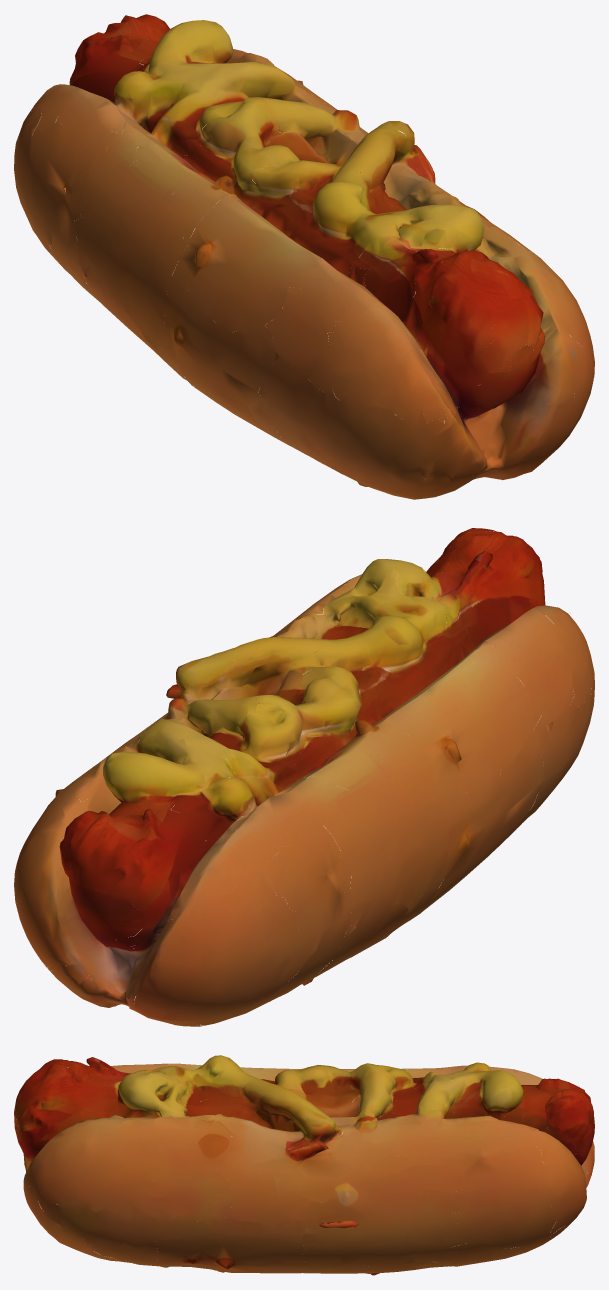
The model's file is s1_galactic_hot_dog_crate_01.glb.
3 renders of one model, top to bottom at view 1: azimuth 30°, elevation 25°; view 2: azimuth 150°, elevation 25°; view 3: azimuth 270°, elevation 25°, orthographic. The views are drawn at different scales.
Parts seen in each view (by area): view 1: tripo_node_a82e1693-5df7-4edb-9702-fad20c43ed5c; view 2: tripo_node_a82e1693-5df7-4edb-9702-fad20c43ed5c; view 3: tripo_node_a82e1693-5df7-4edb-9702-fad20c43ed5c.
Part boxes in pixels (<box>): tripo_node_a82e1693-5df7-4edb-9702-fad20c43ed5c: <box>14,14,594,499</box>; tripo_node_a82e1693-5df7-4edb-9702-fad20c43ed5c: <box>14,528,594,1026</box>; tripo_node_a82e1693-5df7-4edb-9702-fad20c43ed5c: <box>14,1055,594,1275</box>.
Size of the model in its own units: 0.4303 by 0.3634 by 0.9989.
1 material, 1 textured.
